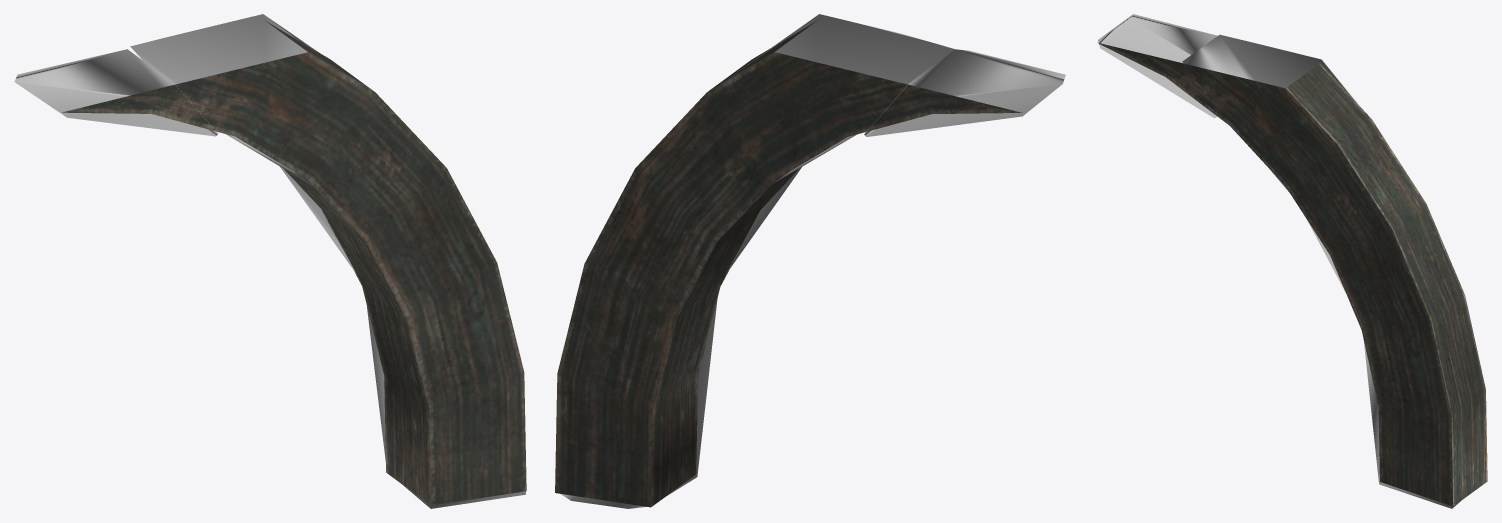
File: SM_Pillar_Curve.gltf
3 renders of one model, left to right at view 1: azimuth 30°, elevation 25°; view 2: azimuth 150°, elevation 25°; view 3: azimuth 330°, elevation 25°, orthographic. The views are drawn at different scales.
Visible parts, largest first — view 1: SM_Pillar_Curve_LOD0, SM_Pillar_Curve_ConvexHulls; view 2: SM_Pillar_Curve_LOD0, SM_Pillar_Curve_ConvexHulls; view 3: SM_Pillar_Curve_LOD0, SM_Pillar_Curve_ConvexHulls.
Boxes of the visible parts, left/top/right/bottom form: SM_Pillar_Curve_LOD0: left=62, top=20, right=526, bottom=505; SM_Pillar_Curve_ConvexHulls: left=14, top=14, right=525, bottom=508; SM_Pillar_Curve_LOD0: left=555, top=20, right=1022, bottom=507; SM_Pillar_Curve_ConvexHulls: left=561, top=14, right=1065, bottom=508; SM_Pillar_Curve_LOD0: left=1097, top=42, right=1487, bottom=506; SM_Pillar_Curve_ConvexHulls: left=1098, top=14, right=1460, bottom=508.
Size of what is drawn, in the model's own units: 1.27 by 1.3 by 0.2195.
